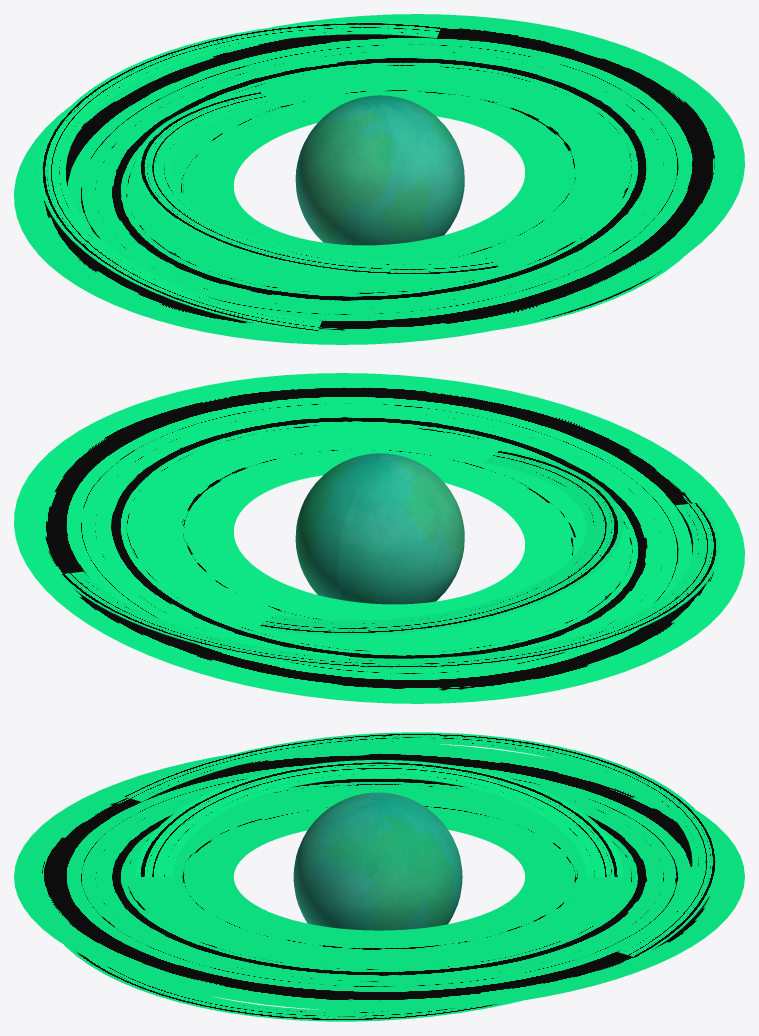
File: Ringed Planet.fbx
3 renders of one model, top to bottom at view 1: azimuth 30°, elevation 25°; view 2: azimuth 150°, elevation 25°; view 3: azimuth 270°, elevation 25°, orthographic.
Parts seen in each view (by area): view 1: pPlane7, pPlane3, pPlane5, pPlane6; view 2: pPlane7, pPlane3, pPlane5, pPlane6; view 3: pPlane7, pPlane3, pPlane5, pPlane6.
Boxes of the visible parts, x1,y1,x2,y2 form: pPlane7: (14,14,744,344); pPlane3: (295,95,464,245); pPlane5: (39,21,685,332); pPlane6: (135,90,501,276); pPlane7: (14,373,744,703); pPlane3: (295,453,464,604); pPlane5: (58,502,719,668); pPlane6: (257,449,623,635); pPlane7: (14,743,744,1011); pPlane3: (293,792,462,930); pPlane5: (64,732,719,1021); pPlane6: (135,760,623,876).
Bounding box in the file's own units: 56.86 × 13.16 × 56.96.
2 materials, 2 textured.
